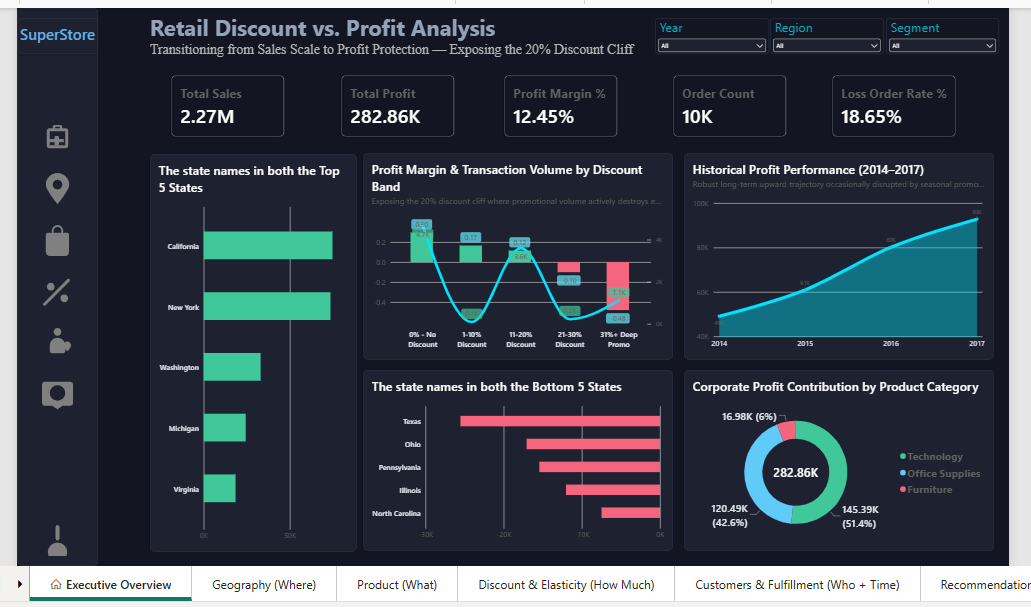

What the dashboard file says about the page in this screenshot:
{"tool":"powerbi","page":{"name":"Executive Overview","canvas":[1920,1080],"ordinal":0},"visuals":[{"type":"textbox","box":[258.3,8,1661.7,110],"z":0},{"type":"cardVisual","fields":{"Data":["superstore.Total Sales"]},"box":[297.6,129.7,220,120],"z":1000},{"type":"cardVisual","fields":{"Data":["superstore.Profit Margin %"]},"box":[941.8,129.7,220,120],"z":2000},{"type":"cardVisual","fields":{"Data":["superstore.Order Count"]},"box":[1269.2,129.7,220,120],"z":3000},{"type":"cardVisual","fields":{"Data":["superstore.Loss Order Rate %"]},"box":[1577,130,240,120],"z":4000},{"type":"slicer","fields":{"Values":["superstore.order_date.Variation.Date Hierarchy.Year"]},"box":[1235.2,19.1,221.1,70.2],"z":5000},{"type":"slicer","fields":{"Values":["superstore.region"]},"box":[1458.3,20,220,70],"z":6000},{"type":"slicer","fields":{"Values":["superstore.segment"]},"box":[1681.7,19.1,219,70.2],"z":7000},{"type":"lineChart","title":"Historical Profit Performance (2014–2017)","fields":{"Y":["Sum(superstore.profit)"],"Category":["superstore.order_date.Variation.Date Hierarchy.Year","superstore.order_date.Variation.Date Hierarchy.Month"]},"box":[1290,280,600,400],"z":8000},{"type":"clusteredBarChart","title":"The state names in both the Top 5 States","fields":{"Y":["Sum(superstore.profit)"],"Category":["superstore.state"]},"box":[257.5,282.5,400,770],"z":9000},{"type":"clusteredBarChart","title":"The state names in both the Bottom 5 States","fields":{"Y":["Sum(superstore.profit)"],"Category":["superstore.state"]},"box":[670,700,600,350],"z":10000},{"type":"donutChart","title":"Corporate Profit Contribution by Product Category","fields":{"Category":["superstore.category"],"Y":["Sum(superstore.profit)"]},"box":[1290,700,600,350],"z":11000},{"type":"cardVisual","fields":{"Data":["superstore.Total Profit"]},"box":[627.2,129.7,220,120],"z":12000},{"type":"lineStackedColumnComboChart","title":"Profit Margin & Transaction Volume by Discount Band","fields":{"Category":["superstore.Discount Band"],"Y":["superstore.Profit Margin %"],"Y2":["superstore.Order Count"]},"box":[670,280,600,400],"z":13000},{"type":"shape","box":[0,0,157.3,1080],"z":14000},{"type":"image","box":[48.9,220,60,60],"z":15000},{"type":"image","box":[0,19.1,157.3,70.2],"z":16000},{"type":"image","box":[48.9,320,60,60],"z":17000},{"type":"image","box":[48,420,59.5,59.5],"z":18000},{"type":"image","box":[48,520,59.5,59.5],"z":19000},{"type":"image","box":[48,620,59.5,59.5],"z":20000},{"type":"image","box":[48,720,59.5,59.5],"z":21000},{"type":"image","box":[48,1000,59.5,59.5],"z":22000}]}

Visuals, with their boxes on the page's 1920x1080 design canvas (x1, y1, x2, y2). These are canvas units, not pixel positions in the 1031x607 screenshot, which may show the page scaled, cropped or inside an application window:
textbox: [left=258, top=8, right=1920, bottom=118]
cardVisual - superstore.Total Sales: [left=298, top=130, right=518, bottom=250]
cardVisual - superstore.Profit Margin %: [left=942, top=130, right=1162, bottom=250]
cardVisual - superstore.Order Count: [left=1269, top=130, right=1489, bottom=250]
cardVisual - superstore.Loss Order Rate %: [left=1577, top=130, right=1817, bottom=250]
slicer - superstore.order_date.Variation.Date Hierarchy.Year: [left=1235, top=19, right=1456, bottom=89]
slicer - superstore.region: [left=1458, top=20, right=1678, bottom=90]
slicer - superstore.segment: [left=1682, top=19, right=1901, bottom=89]
"Historical Profit Performance (2014–2017)" lineChart: [left=1290, top=280, right=1890, bottom=680]
"The state names in both the Top 5 States" clusteredBarChart: [left=258, top=282, right=658, bottom=1052]
"The state names in both the Bottom 5 States" clusteredBarChart: [left=670, top=700, right=1270, bottom=1050]
"Corporate Profit Contribution by Product Category" donutChart: [left=1290, top=700, right=1890, bottom=1050]
cardVisual - superstore.Total Profit: [left=627, top=130, right=847, bottom=250]
"Profit Margin & Transaction Volume by Discount Band" lineStackedColumnComboChart: [left=670, top=280, right=1270, bottom=680]
shape: [left=0, top=0, right=157, bottom=1080]
image: [left=49, top=220, right=109, bottom=280]
image: [left=0, top=19, right=157, bottom=89]
image: [left=49, top=320, right=109, bottom=380]
image: [left=48, top=420, right=108, bottom=480]
image: [left=48, top=520, right=108, bottom=580]
image: [left=48, top=620, right=108, bottom=680]
image: [left=48, top=720, right=108, bottom=780]
image: [left=48, top=1000, right=108, bottom=1060]
